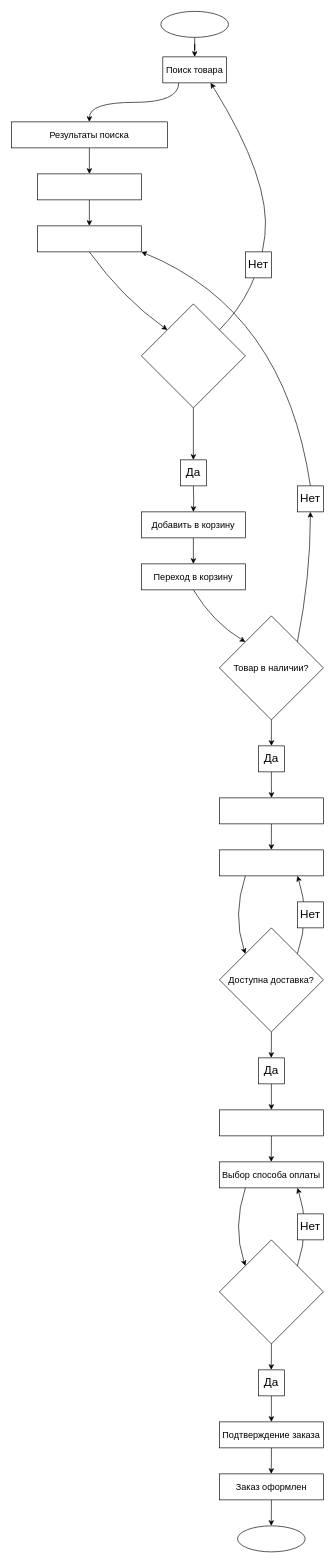
The diagram is 335 pixels wide and 1563 high, and some of its shapes have lost their labels. The centre of each missing label's shape, as x and y in pixels:
"Ввод / выбор адреса" goes at [271,862].
"Выбор способа доставки" goes at [271,1122].
"Выбор товара" goes at [89,186].
"Карточка товара" goes at [89,238].
"Конец" goes at [271,1538].
"Начало" goes at [194,24].
"Оплата успешна?" goes at [271,1291].
"Проверка корзины" goes at [271,810].
"Товар подходит?" goes at [193,355].
